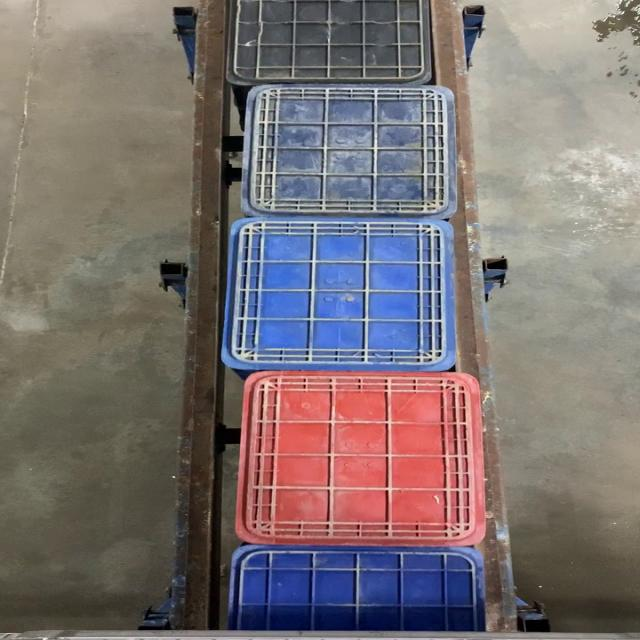Box: (235, 374, 490, 542), (221, 220, 458, 372), (246, 83, 462, 219)
